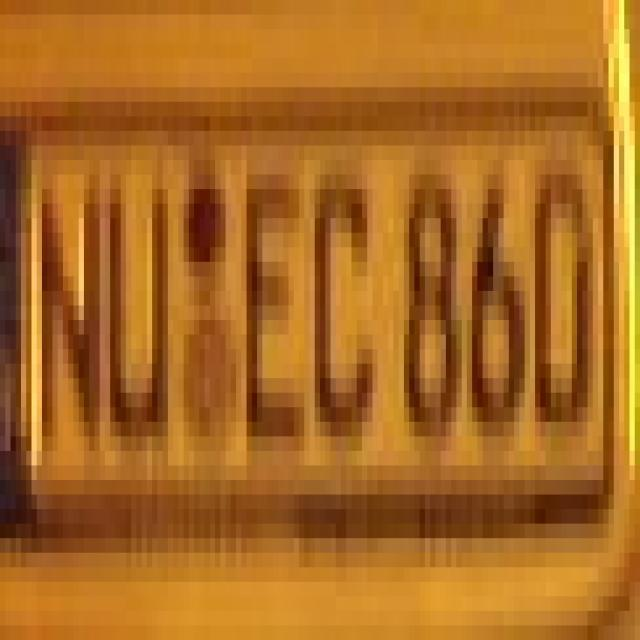0: (535, 160, 593, 422)
6: (472, 175, 514, 436)
8: (399, 145, 467, 451)
C: (314, 145, 378, 451)
E: (242, 160, 304, 451)
N: (37, 174, 105, 422)
U: (105, 160, 168, 436)
